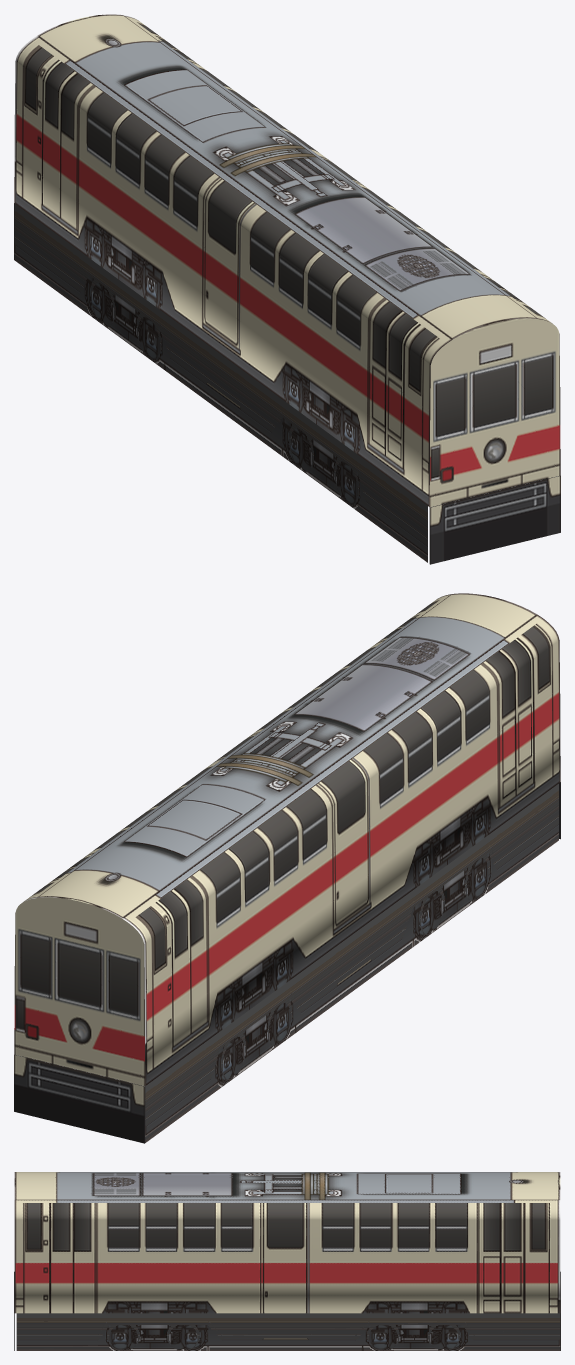
Rendered from car1.glb.
3 views of the same model, one above another, from view 1: azimuth 30°, elevation 25°; view 2: azimuth 150°, elevation 25°; view 3: azimuth 270°, elevation 25° (orthographic). The views are drawn at different scales.
Parts seen in each view (by area): view 1: toyohasi-3200-car1; view 2: toyohasi-3200-car1; view 3: toyohasi-3200-car1.
Part boxes in pixels (<box>): toyohasi-3200-car1: <box>14,14,560,564</box>; toyohasi-3200-car1: <box>14,593,560,1143</box>; toyohasi-3200-car1: <box>14,1172,560,1350</box>.
Size of the model in its own units: 2.24 by 3.69 by 12.33.
9 materials, 8 textured.
